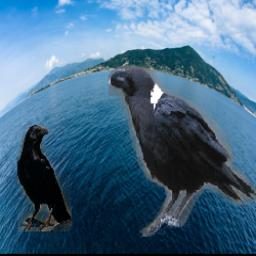Crow: (109, 66, 256, 237), (16, 125, 71, 231)
